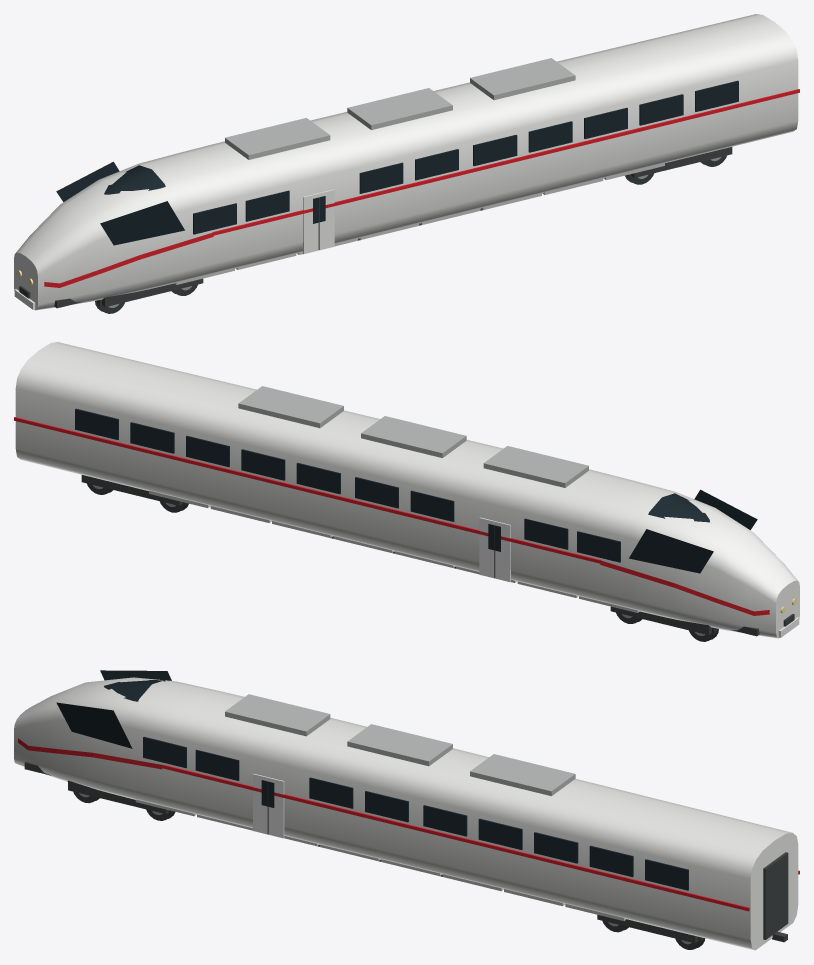
Rendered from ice3-br403-second-end-403-5.glb.
3 views of the same model, one above another, from view 1: azimuth 30°, elevation 25°; view 2: azimuth 150°, elevation 25°; view 3: azimuth 330°, elevation 25° (orthographic).
Parts seen in each view (by area): view 1: ice3_second_end_403_5_lofted_shell, second_end_403_5_red_belt_-1, second_end_403_5_roof_power_fairing_2, second_end_403_5_roof_power_fairing_0, second_end_403_5_roof_power_fairing_1, second_end_403_5_side_cab_window_-1, second_end_403_5_0_door_-1, second_end_403_5_front_windscreen_visor, second_end_403_5_01_window_-1, second_end_403_5_03_window_-1, second_end_403_5_04_window_-1, second_end_403_5_06_window_-1 (+9 smaller); view 2: ice3_second_end_403_5_lofted_shell, second_end_403_5_red_belt_1, second_end_403_5_roof_power_fairing_2, second_end_403_5_roof_power_fairing_0, second_end_403_5_roof_power_fairing_1, second_end_403_5_side_cab_window_1, second_end_403_5_0_door_1, second_end_403_5_bogie_0, second_end_403_5_bogie_1, second_end_403_5_front_windscreen_visor, second_end_403_5_01_window_1, second_end_403_5_03_window_1 (+9 smaller); view 3: ice3_second_end_403_5_lofted_shell, second_end_403_5_red_belt_-1, second_end_403_5_roof_power_fairing_1, second_end_403_5_roof_power_fairing_0, second_end_403_5_roof_power_fairing_2, second_end_403_5_gangway_1, second_end_403_5_side_cab_window_-1, second_end_403_5_0_door_-1, second_end_403_5_01_window_-1, second_end_403_5_02_window_-1, second_end_403_5_03_window_-1, second_end_403_5_04_window_-1 (+10 smaller).
Boxes of the visible parts, bbox=[...] form: ice3_second_end_403_5_lofted_shell: bbox=[14, 14, 798, 310]; second_end_403_5_red_belt_-1: bbox=[212, 89, 799, 235]; second_end_403_5_roof_power_fairing_2: bbox=[470, 58, 575, 100]; second_end_403_5_roof_power_fairing_0: bbox=[225, 118, 330, 159]; second_end_403_5_roof_power_fairing_1: bbox=[347, 88, 452, 129]; second_end_403_5_side_cab_window_-1: bbox=[100, 201, 184, 245]; second_end_403_5_0_door_-1: bbox=[303, 189, 334, 253]; second_end_403_5_front_windscreen_visor: bbox=[104, 165, 165, 194]; second_end_403_5_01_window_-1: bbox=[639, 94, 683, 125]; second_end_403_5_03_window_-1: bbox=[528, 121, 572, 152]; second_end_403_5_04_window_-1: bbox=[473, 135, 517, 166]; second_end_403_5_06_window_-1: bbox=[359, 162, 403, 193]; ice3_second_end_403_5_lofted_shell: bbox=[15, 342, 799, 638]; second_end_403_5_red_belt_1: bbox=[14, 417, 601, 563]; second_end_403_5_roof_power_fairing_2: bbox=[238, 386, 343, 428]; second_end_403_5_roof_power_fairing_0: bbox=[483, 446, 588, 487]; second_end_403_5_roof_power_fairing_1: bbox=[361, 416, 466, 457]; second_end_403_5_side_cab_window_1: bbox=[629, 529, 713, 573]; second_end_403_5_0_door_1: bbox=[479, 517, 510, 581]; second_end_403_5_bogie_0: bbox=[610, 606, 718, 641]; second_end_403_5_bogie_1: bbox=[81, 475, 188, 512]; second_end_403_5_front_windscreen_visor: bbox=[648, 493, 709, 522]; second_end_403_5_01_window_1: bbox=[130, 422, 174, 453]; second_end_403_5_03_window_1: bbox=[241, 449, 285, 480]; ice3_second_end_403_5_lofted_shell: bbox=[14, 677, 798, 950]; second_end_403_5_red_belt_-1: bbox=[162, 764, 749, 911]; second_end_403_5_roof_power_fairing_1: bbox=[347, 724, 452, 766]; second_end_403_5_roof_power_fairing_0: bbox=[225, 694, 330, 736]; second_end_403_5_roof_power_fairing_2: bbox=[470, 754, 575, 796]; second_end_403_5_gangway_1: bbox=[763, 852, 788, 939]; second_end_403_5_side_cab_window_-1: bbox=[56, 702, 132, 748]; second_end_403_5_0_door_-1: bbox=[253, 773, 284, 838]; second_end_403_5_01_window_-1: bbox=[589, 845, 633, 877]; second_end_403_5_02_window_-1: bbox=[534, 832, 578, 863]; second_end_403_5_03_window_-1: bbox=[478, 818, 522, 849]; second_end_403_5_04_window_-1: bbox=[423, 805, 467, 836].
Size of the model in its own units: 26.13 by 4.07 by 3.2.
